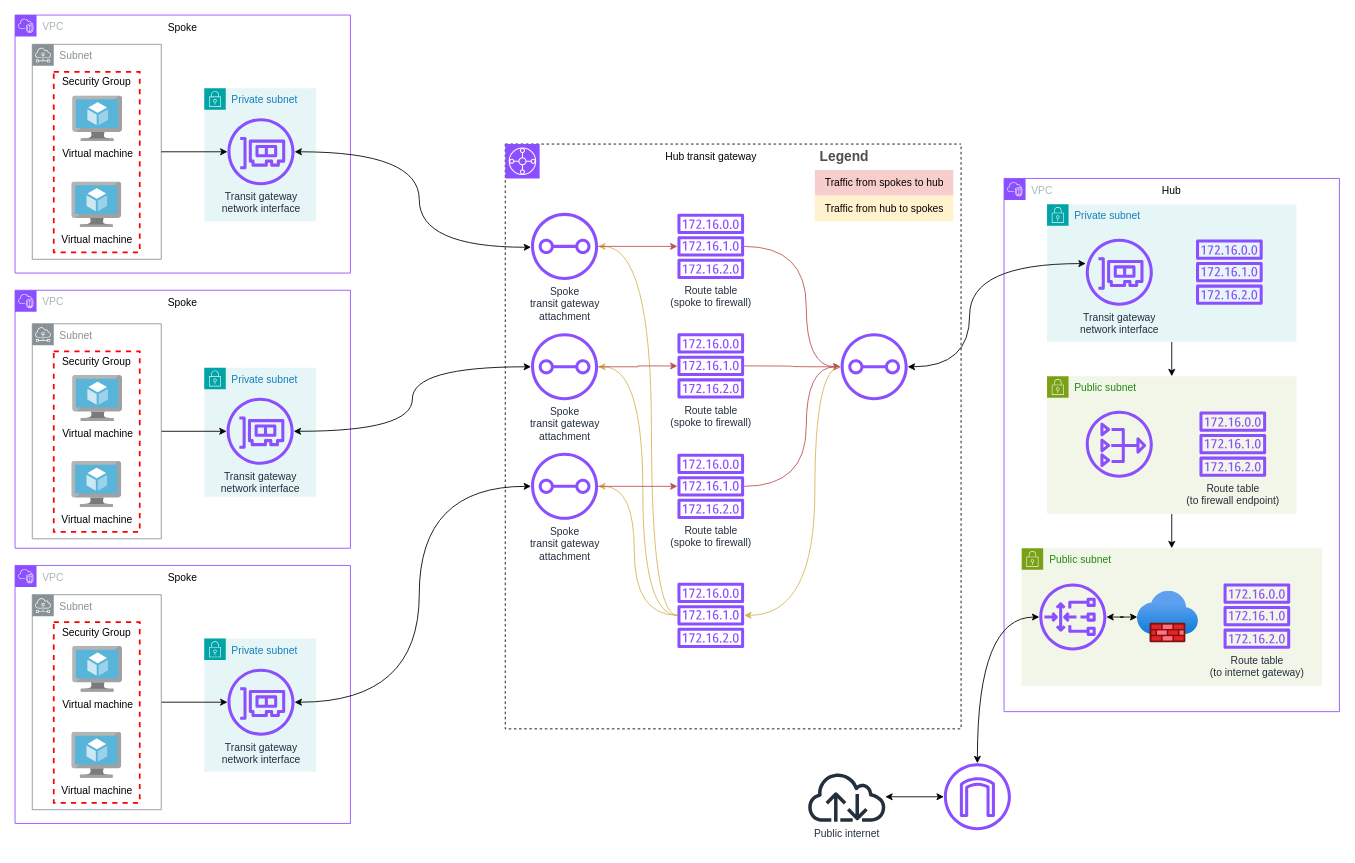
Image size: 1355x863. Some labels were removed from this diagram. The shapes that lost their labels are listed below. From the top down, each one's box as (x1, y1, x2, y2) in pixels, then its label:
(1195, 239, 1262, 304): Route table (to NAT gateway)
(840, 333, 907, 400): Hub transit gateway attachment
(1085, 410, 1152, 477): NAT gateway
(677, 582, 744, 648): Route table (firewall to spoke)
(1039, 583, 1106, 650): Gateway load balancer
(1137, 591, 1198, 642): Network firewall
(943, 763, 1010, 830): Internet gateway
